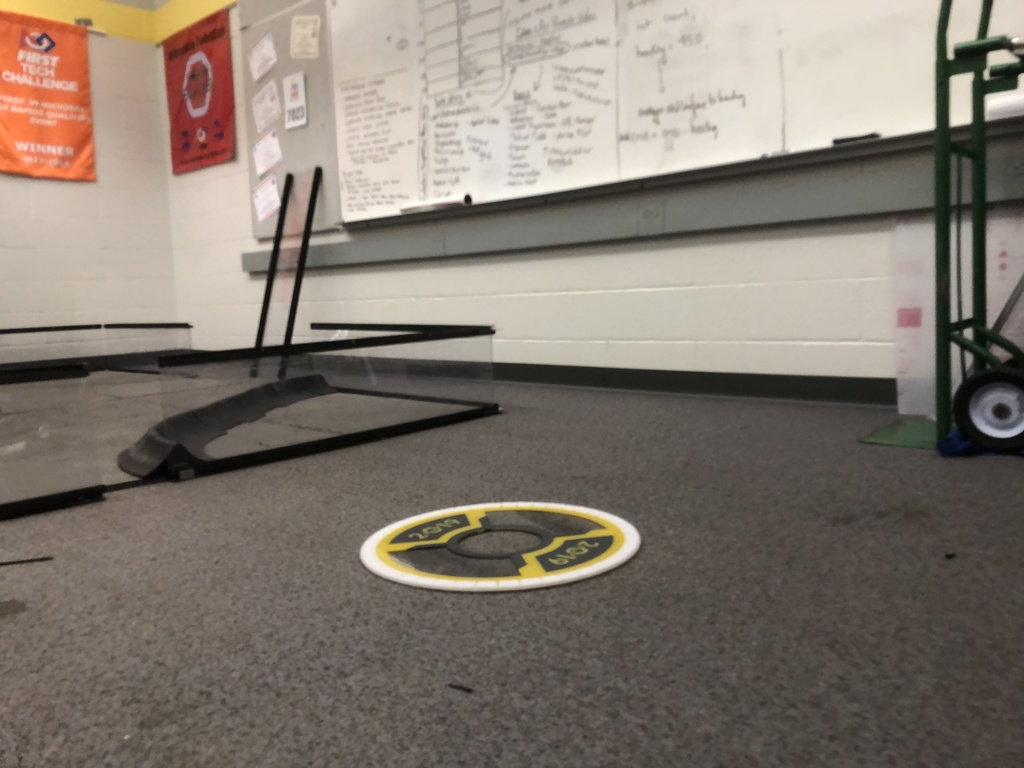hatch_panel: (348, 489, 654, 601)
